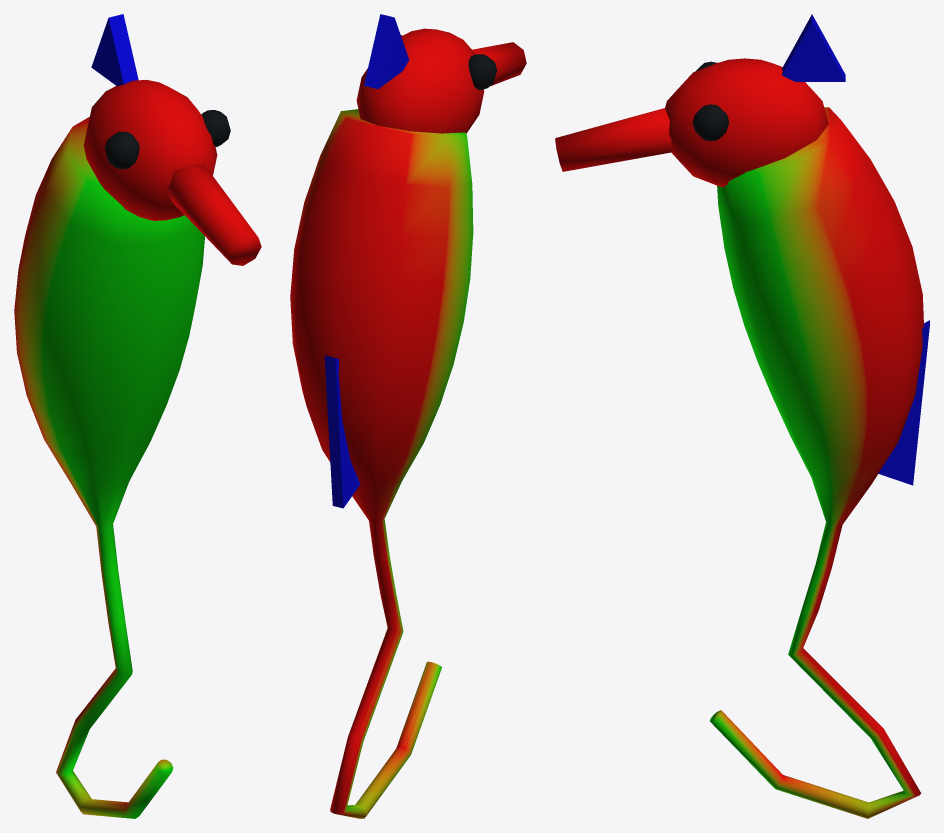
File: fish_seahorse.glb
The picture shows the model from 3 angles, left to right: view 1: azimuth 30°, elevation 25°; view 2: azimuth 150°, elevation 25°; view 3: azimuth 270°, elevation 25°; orthographic projection. The views are drawn at different scales.
Parts seen in each view (by area): view 1: Body, Eye; view 2: Body, Eye; view 3: Body, Eye.
Part boxes in pixels (box(x1,y1,x2,y2)): Body: box(14, 14, 261, 818); Eye: box(104, 110, 230, 169); Body: box(290, 14, 526, 818); Eye: box(401, 35, 496, 89); Body: box(555, 14, 929, 818); Eye: box(692, 61, 728, 141).
Size of the model in its own units: 0.209 by 1.05 by 0.4453.
